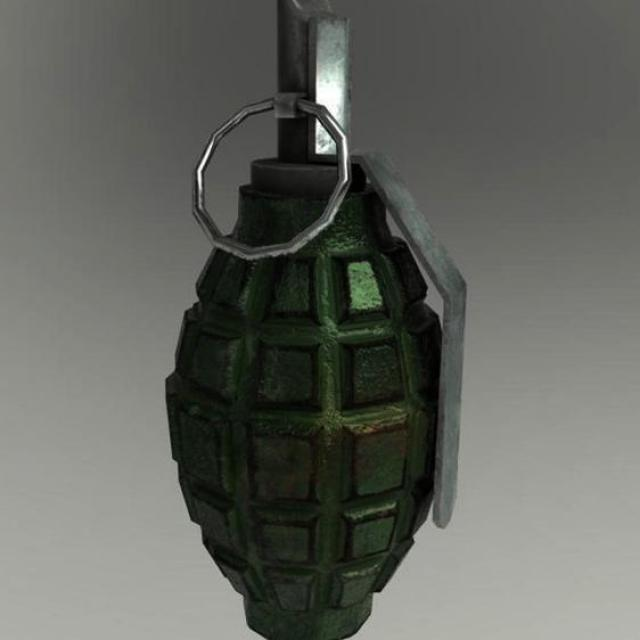grenade: (164, 1, 467, 640)
